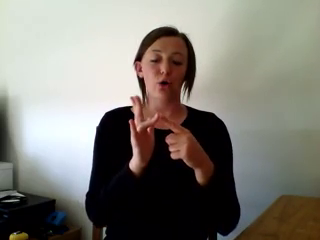O: (123, 91, 212, 174)
